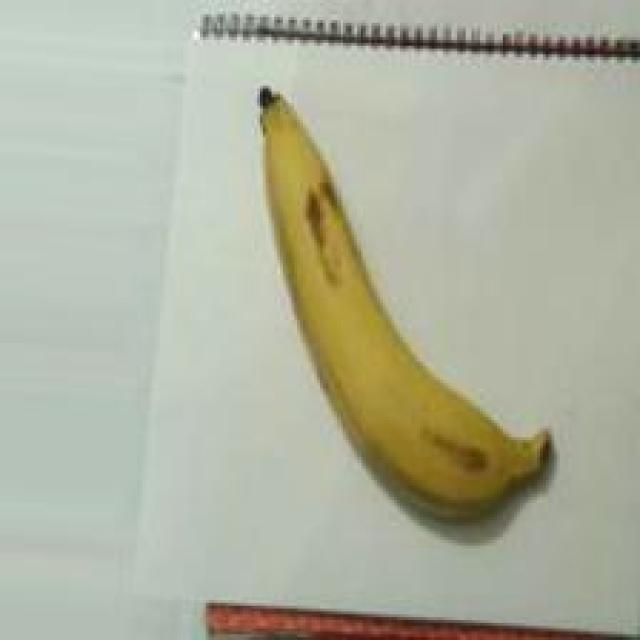banana: (217, 64, 586, 550)
